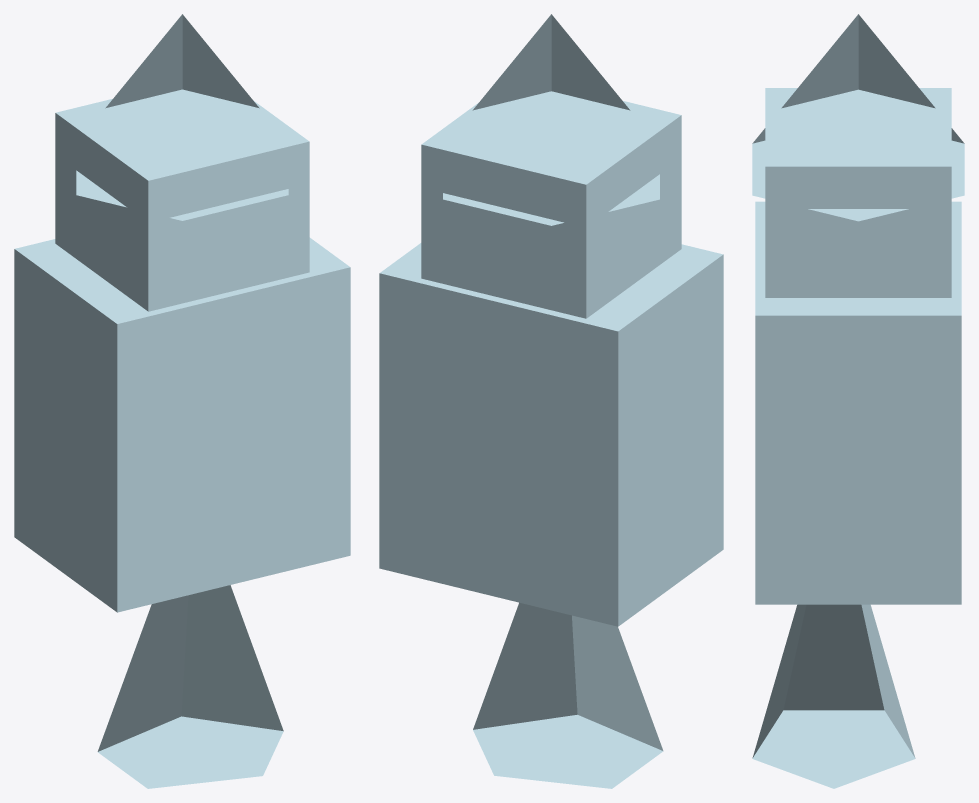
The model's file is Ghost.glb.
3 views of the same model, side by side, from view 1: azimuth 30°, elevation 25°; view 2: azimuth 150°, elevation 25°; view 3: azimuth 270°, elevation 25° (orthographic). The views are drawn at different scales.
Parts seen in each view (by area): view 1: filler_Ghost; view 2: filler_Ghost; view 3: filler_Ghost.
Part boxes in pixels (box(x1,y1,x2,y2)): filler_Ghost: box(14, 14, 350, 788); filler_Ghost: box(379, 14, 723, 788); filler_Ghost: box(752, 14, 964, 788).
Bounding box in the file's own units: 0.55 × 1.64 × 0.433.
